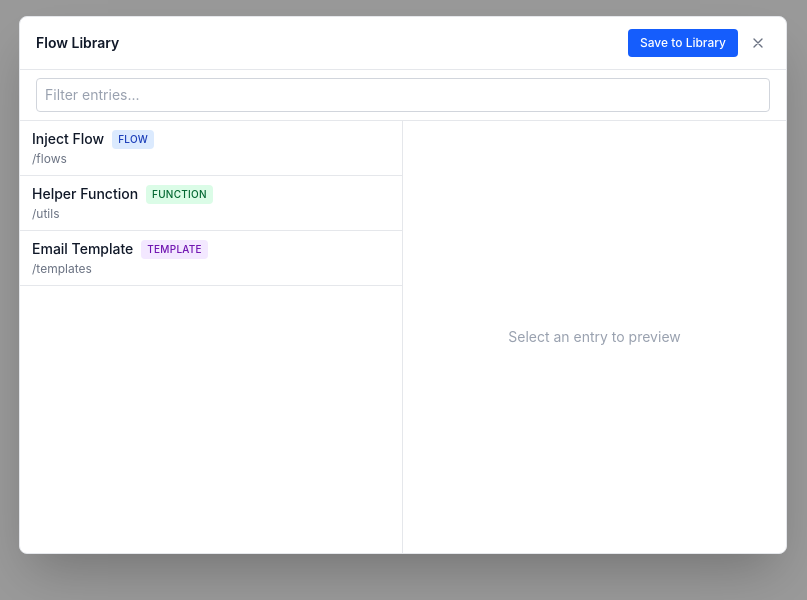
Test case: LibraryDialog › rename › shows rename input when Rename is clicked
This screenshot has width=807, height=600.
Click the button "Inject Flow flow /flows" at (68,139), box [20,121,402,176]
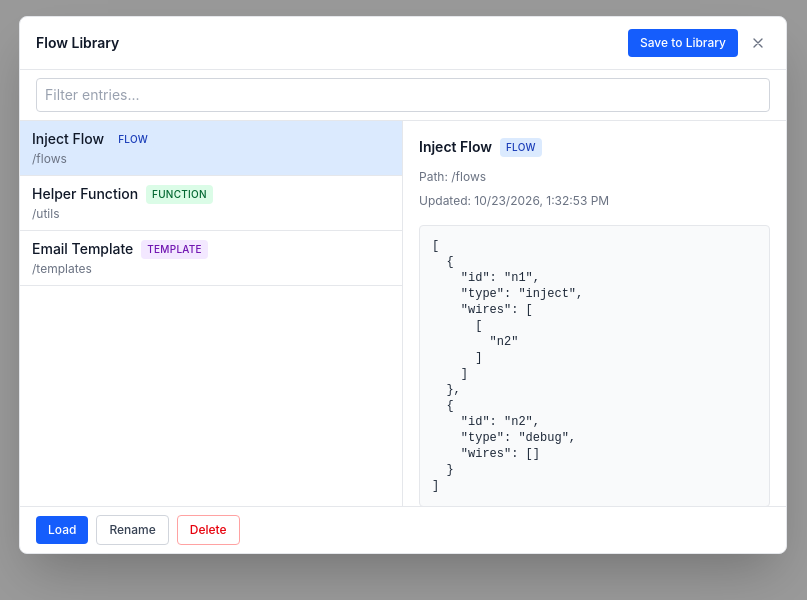
Click the button with test id "library-rename-button" at (133,530), box [96,515,169,545]
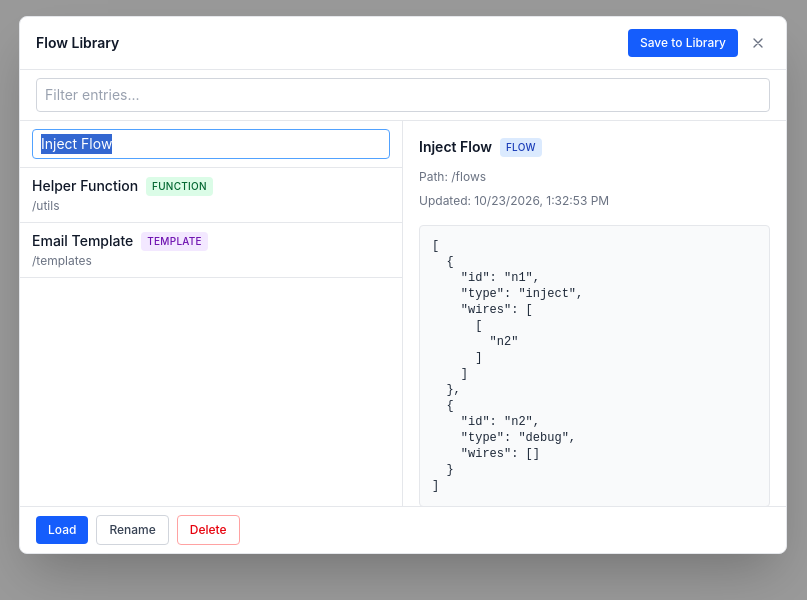
expect the field with test id "library-rename-input" is shown: met, box [32,129,390,159]
